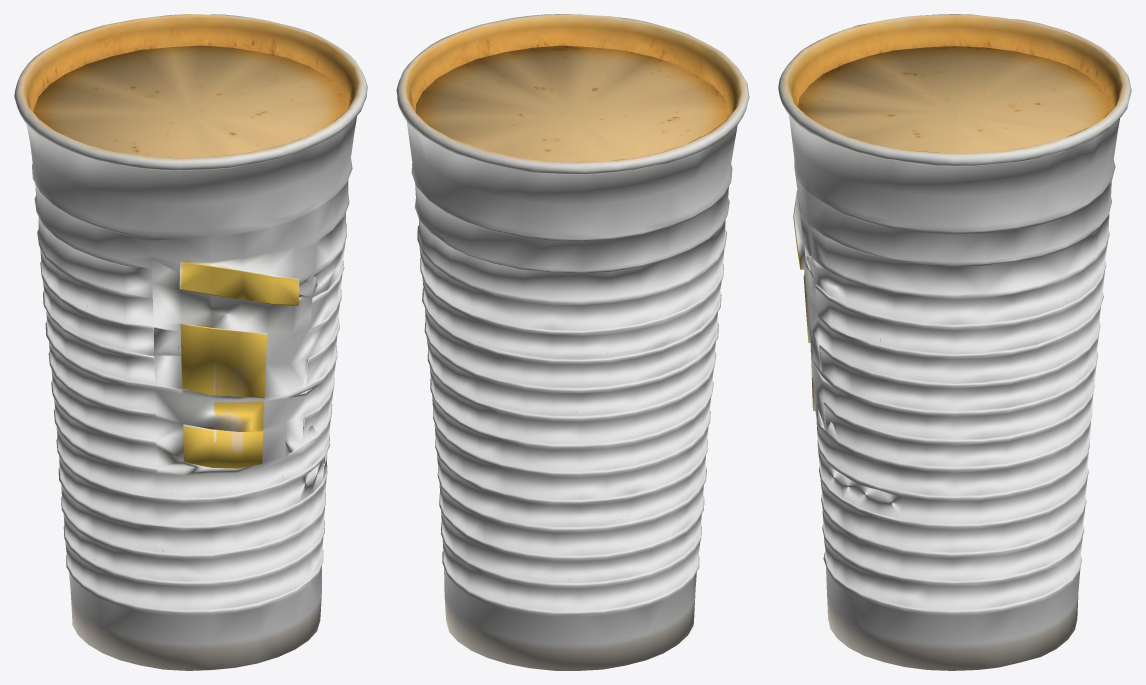
The model's file is selected.glb.
3 renders of one model, left to right at view 1: azimuth 30°, elevation 25°; view 2: azimuth 150°, elevation 25°; view 3: azimuth 270°, elevation 25°, orthographic.
Parts seen in each view (by area): view 1: tripo_node_2d2a3caa-9cd7-4bad-96ca-ae2b9466e693; view 2: tripo_node_2d2a3caa-9cd7-4bad-96ca-ae2b9466e693; view 3: tripo_node_2d2a3caa-9cd7-4bad-96ca-ae2b9466e693.
Boxes of the visible parts, x1,y1,x2,y2 form: tripo_node_2d2a3caa-9cd7-4bad-96ca-ae2b9466e693: [14, 14, 367, 670]; tripo_node_2d2a3caa-9cd7-4bad-96ca-ae2b9466e693: [396, 14, 749, 670]; tripo_node_2d2a3caa-9cd7-4bad-96ca-ae2b9466e693: [778, 14, 1131, 670].
Bounding box in the file's own units: 0.5957 × 0.998 × 0.5957.
1 material, 1 textured.
